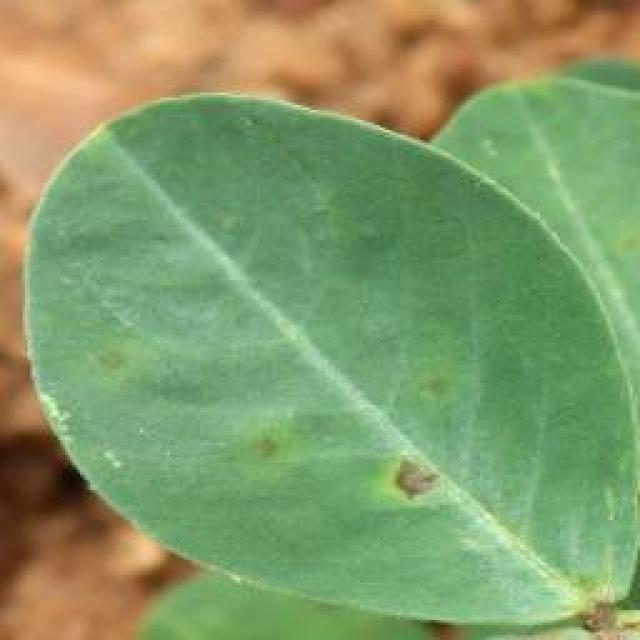Sigatoka: (354, 418, 460, 529), (248, 408, 314, 500)
